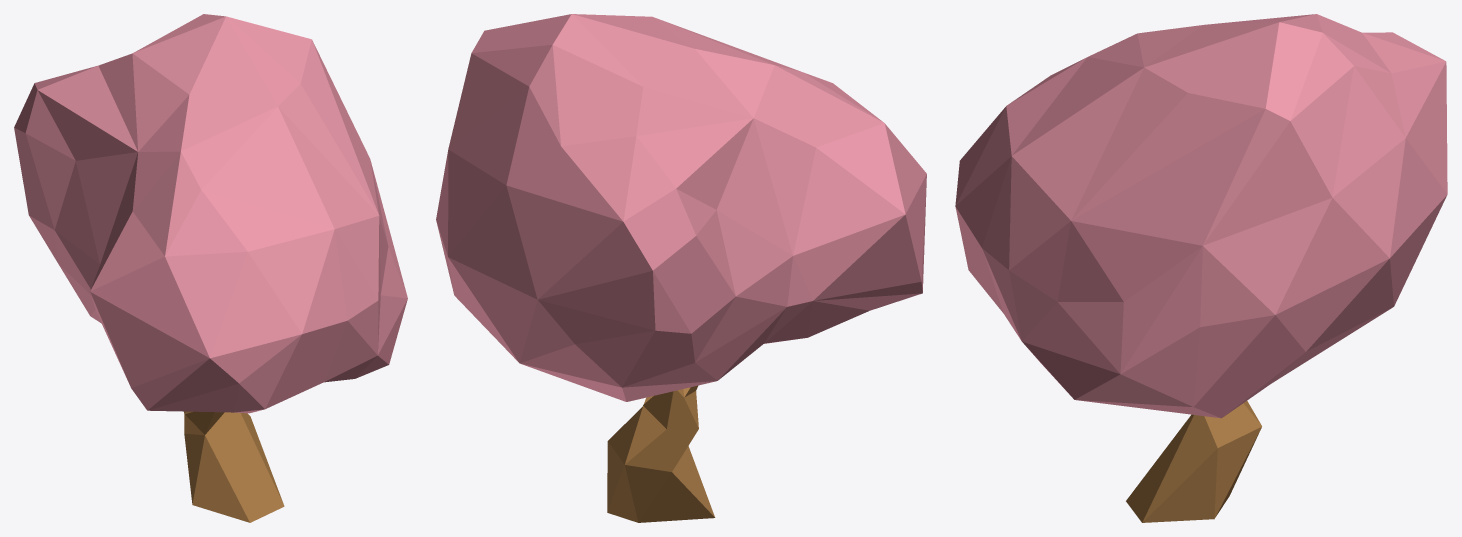
The model's file is LP_TreeSmallPink.fbx.
3 renders of one model, left to right at view 1: azimuth 30°, elevation 25°; view 2: azimuth 150°, elevation 25°; view 3: azimuth 270°, elevation 25°, orthographic. The views are drawn at different scales.
Parts seen in each view (by area): view 1: TreePink; view 2: TreePink; view 3: TreePink.
Boxes of the visible parts, left/top/right/bottom form: TreePink: left=14, top=14, right=407, bottom=522; TreePink: left=436, top=14, right=926, bottom=522; TreePink: left=955, top=14, right=1447, bottom=522.
Size of the model in its own units: 248 by 325 by 288.
